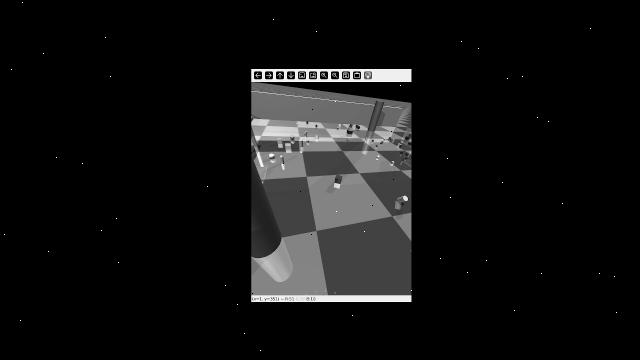cilindro: (249, 158, 281, 258), (369, 100, 386, 132), (394, 194, 410, 205), (279, 154, 286, 164), (298, 139, 305, 149), (354, 123, 361, 129), (401, 155, 406, 163), (303, 131, 310, 135), (370, 138, 375, 143), (388, 136, 393, 140), (314, 135, 320, 138), (364, 136, 367, 141), (400, 143, 403, 148), (398, 142, 401, 147), (409, 133, 412, 138), (400, 150, 403, 154), (380, 142, 383, 144)
cuadrado: (333, 173, 344, 185), (284, 142, 294, 150), (276, 137, 283, 144), (390, 160, 395, 165), (295, 123, 300, 127), (349, 123, 353, 128), (348, 127, 353, 131), (405, 152, 410, 156), (338, 123, 341, 128), (406, 136, 409, 141), (392, 139, 395, 143), (306, 121, 309, 124)
esfera: (269, 151, 277, 159), (290, 133, 296, 140), (305, 138, 311, 143), (375, 143, 380, 148), (375, 155, 380, 159), (315, 124, 318, 129), (401, 140, 404, 144), (337, 126, 340, 129), (383, 138, 386, 140)
rectangulo: (346, 130, 354, 135), (408, 142, 412, 146)
